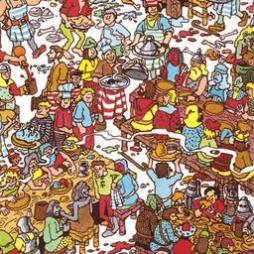wenda: (66, 63, 82, 87)
